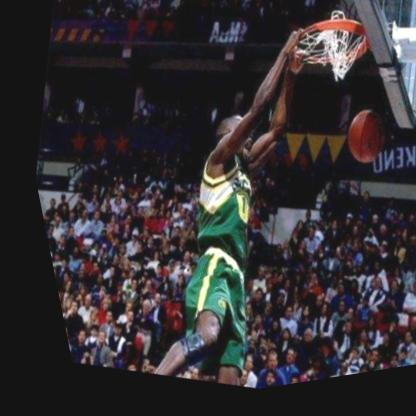basketball: (328, 113, 388, 181)
